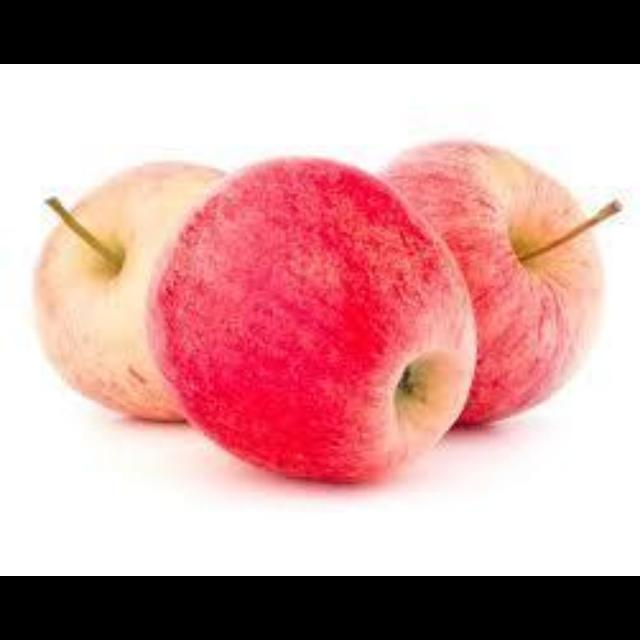apple: (150, 158, 474, 477), (382, 140, 617, 424), (33, 161, 222, 418)
